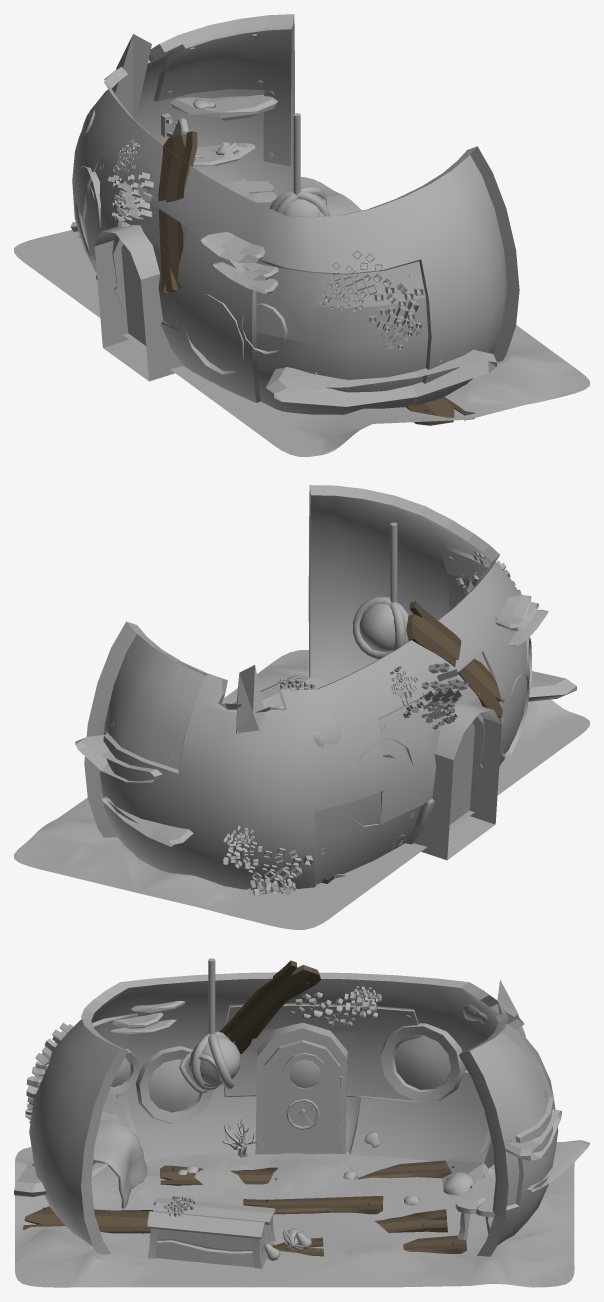
Rendered from HomeBase_Interior.fbx.
3 views of the same model, one above another, from view 1: azimuth 30°, elevation 25°; view 2: azimuth 150°, elevation 25°; view 3: azimuth 270°, elevation 25° (orthographic). The views are drawn at different scales.
Parts seen in each view (by area): view 1: Walls, Sand1, DoorFrame, Rock, Rocks, Planks, SmallCorals, Bone, Rope, Windows, Table, Diver_Helmet; view 2: Walls, Sand1, DoorFrame, SmallCorals, Rocks, Planks, Rope, Bone, Diver_Helmet, Rock, Chest_Top, Windows (+1 smaller); view 3: Walls, Sand1, Planks, Windows, Door1, Chest_Top, Chest_Bottom, DoorFrame, Rocks, SmallCorals, Blanket, Rope (+9 smaller).
Boxes of the visible parts, x1,y1,x2,y2 form: Walls: [72, 14, 519, 414]; Sand1: [14, 177, 589, 456]; DoorFrame: [94, 224, 183, 381]; Rock: [265, 349, 496, 406]; Rocks: [170, 94, 278, 293]; Planks: [96, 131, 474, 425]; SmallCorals: [70, 140, 423, 349]; Bone: [112, 34, 151, 119]; Rope: [269, 113, 329, 216]; Windows: [80, 166, 287, 374]; Table: [221, 181, 276, 208]; Diver_Helmet: [282, 190, 326, 216]; Walls: [84, 485, 530, 890]; Sand1: [14, 650, 589, 929]; DoorFrame: [414, 703, 501, 860]; SmallCorals: [223, 551, 521, 895]; Rocks: [75, 595, 548, 846]; Planks: [321, 601, 504, 883]; Rope: [352, 522, 408, 659]; Bone: [236, 665, 346, 894]; Diver_Helmet: [359, 603, 409, 651]; Rock: [528, 671, 576, 701]; Chest_Top: [232, 673, 328, 708]; Windows: [349, 637, 531, 826]; Walls: [29, 972, 558, 1256]; Sand1: [15, 1147, 574, 1287]; Planks: [22, 960, 466, 1256]; Windows: [108, 1023, 465, 1123]; Door1: [263, 1039, 343, 1151]; Chest_Top: [147, 1195, 275, 1238]; Chest_Bottom: [147, 1217, 275, 1268]; DoorFrame: [255, 1022, 347, 1154]; Rocks: [110, 1000, 589, 1191]; SmallCorals: [25, 986, 473, 1188]; Blanket: [93, 1120, 147, 1208]; Rope: [191, 958, 233, 1090].
Bounding box in the file's own units: 49.14 × 37.47 × 76.83.
